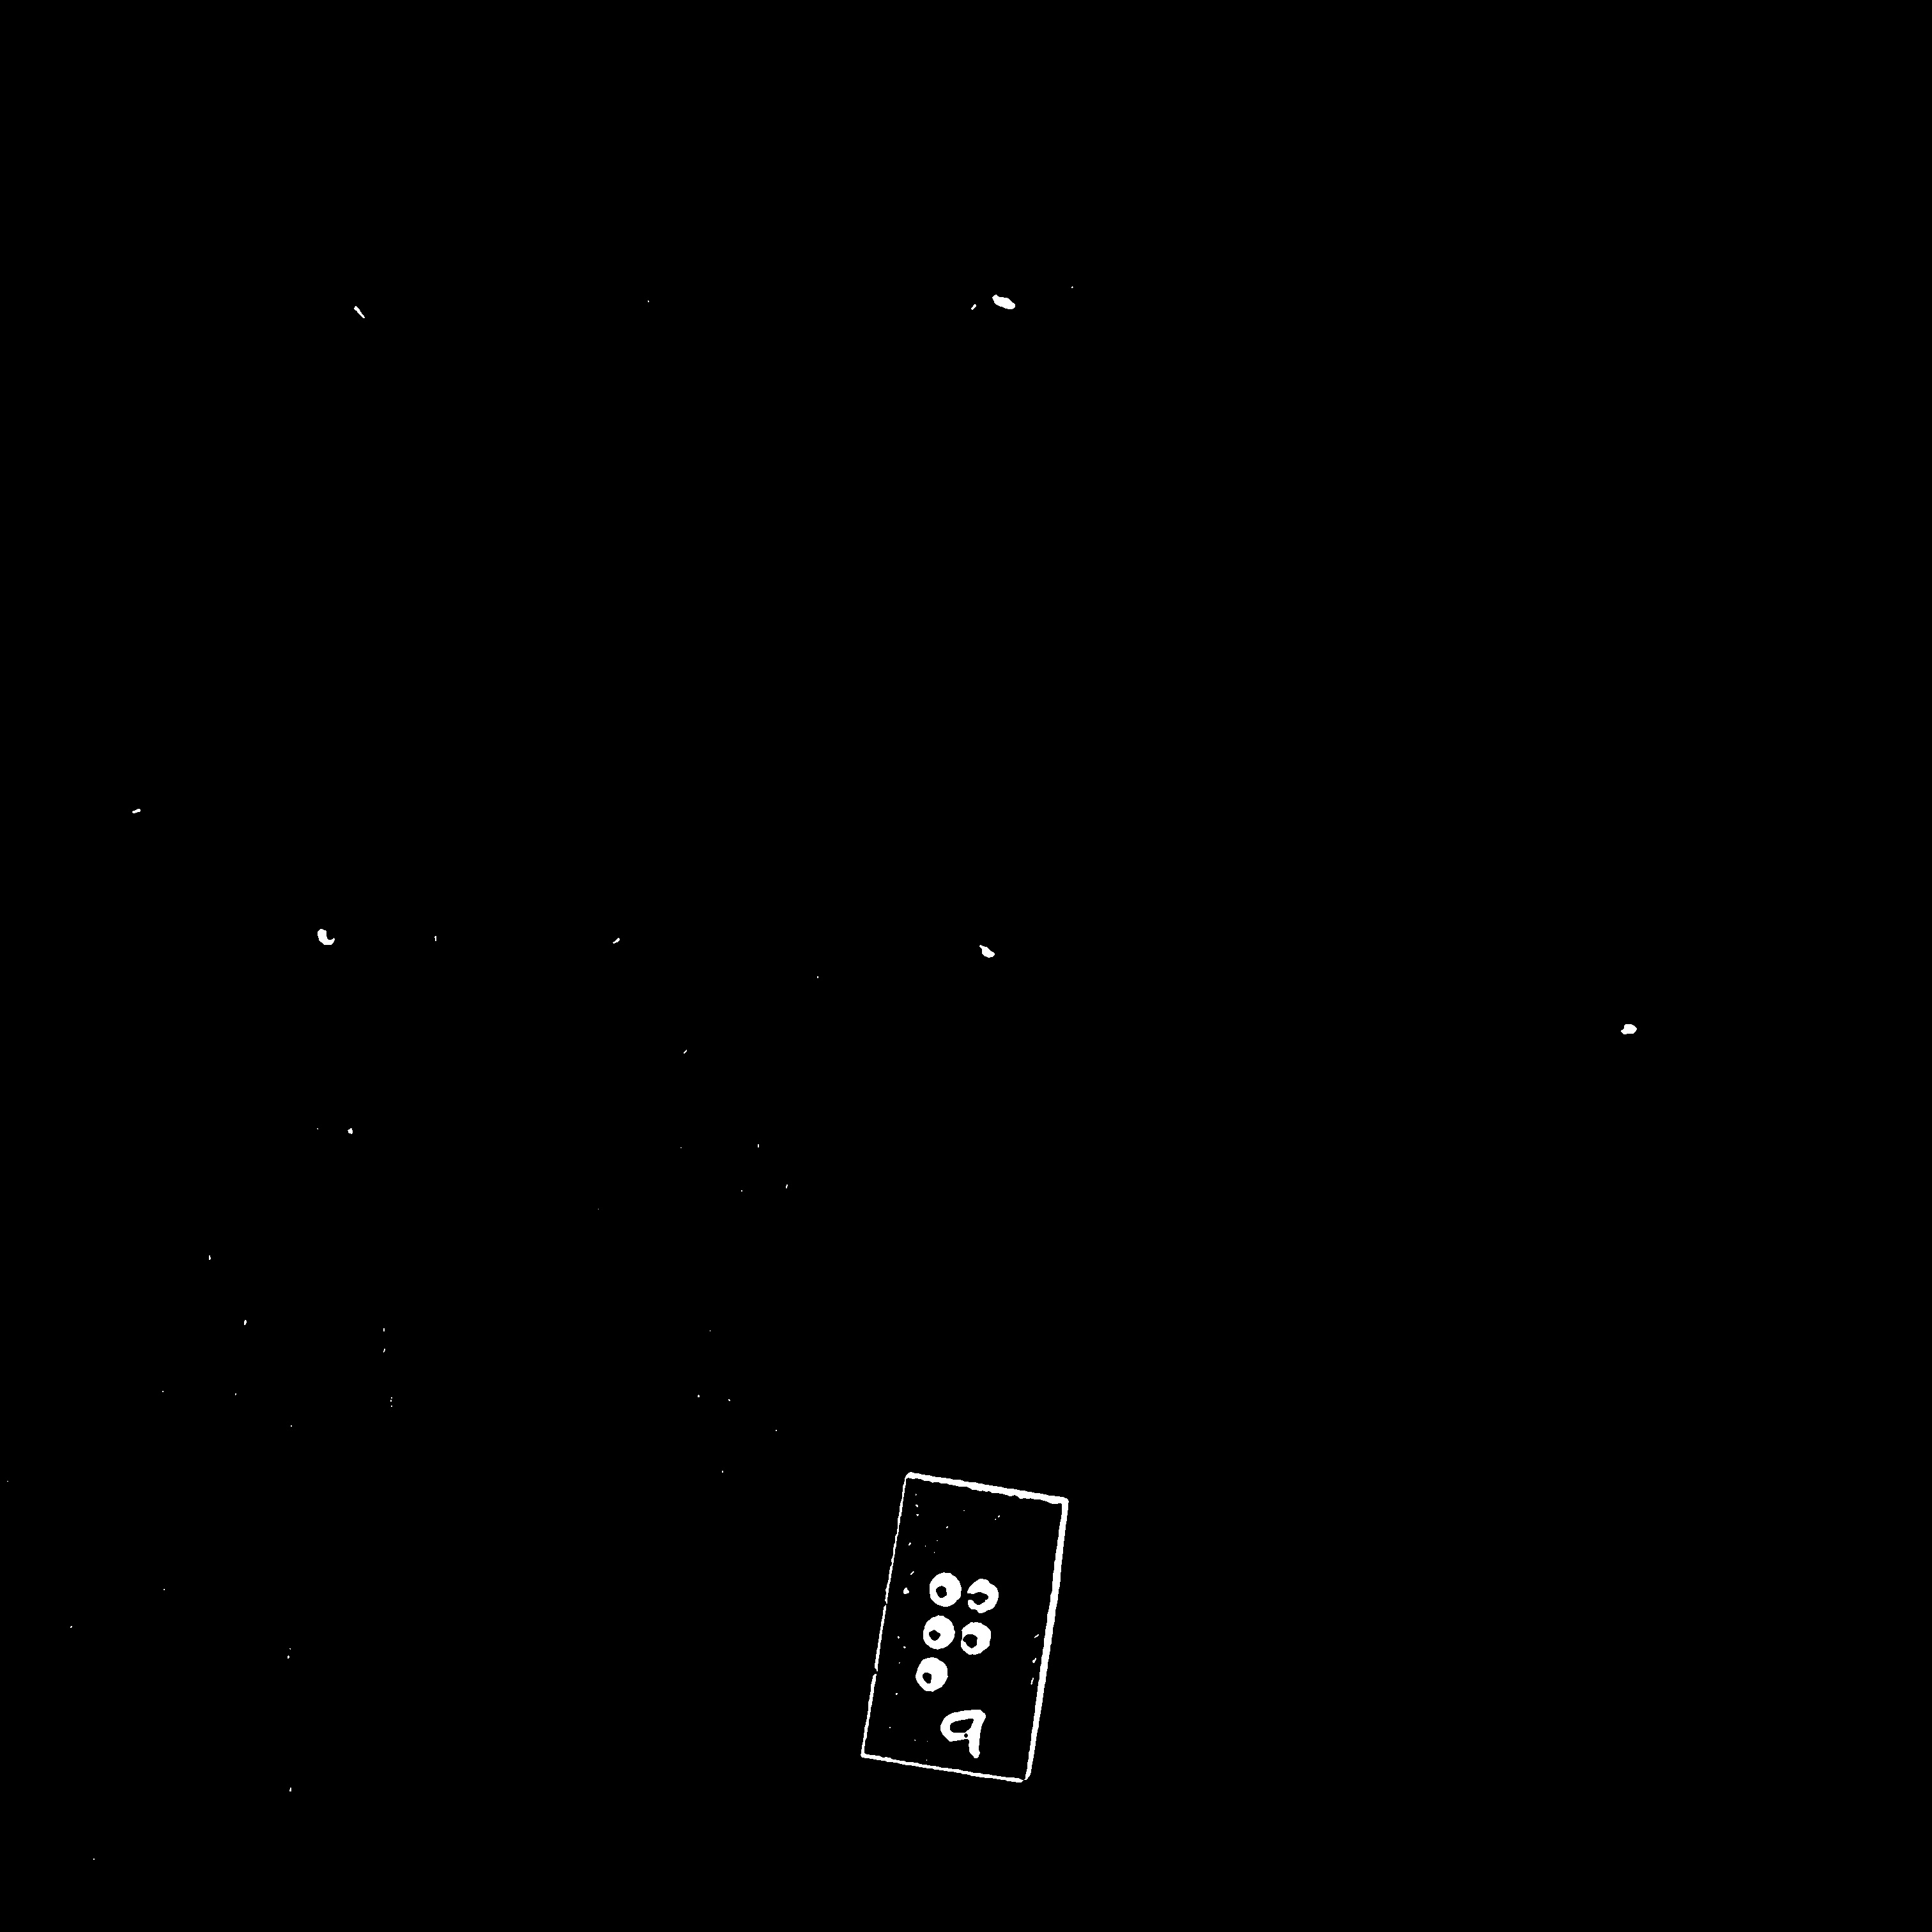q: (909, 1557, 1011, 1713)
